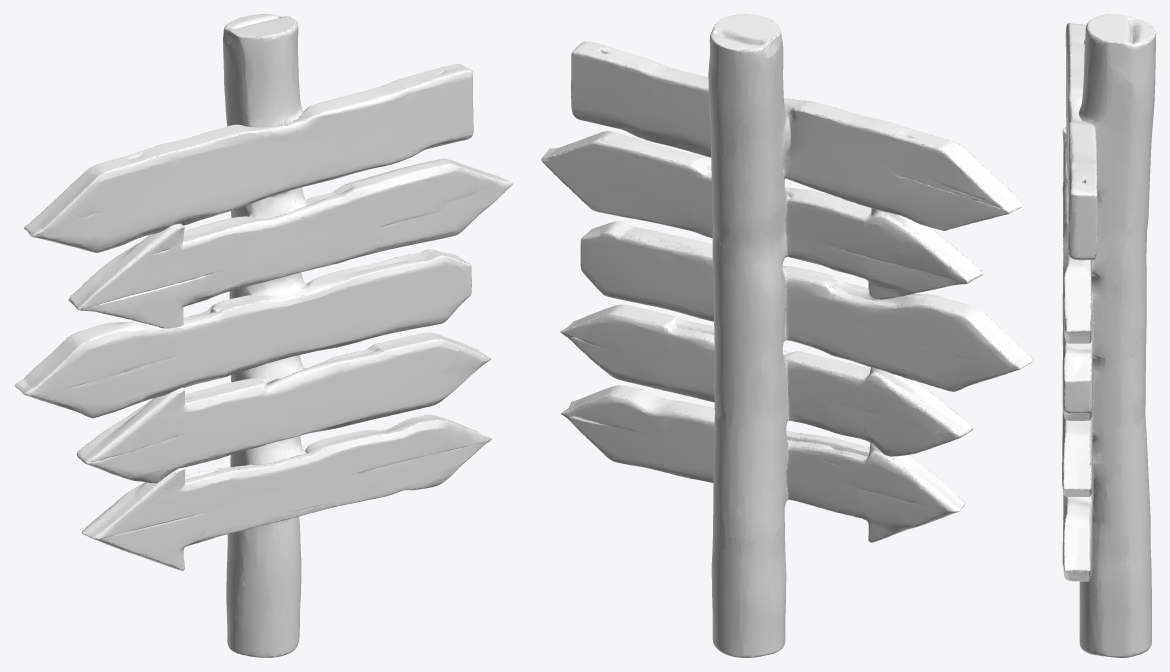
File: beach-signpost.glb
3 renders of one model, left to right at view 1: azimuth 30°, elevation 25°; view 2: azimuth 150°, elevation 25°; view 3: azimuth 270°, elevation 25°, orthographic.
Visible parts, largest first — view 1: model; view 2: model; view 3: model.
Part boxes in pixels (box(x1,y1,x2,y2)): model: box(15, 14, 512, 657); model: box(541, 14, 1033, 657); model: box(1062, 14, 1155, 657).
Bounding box in the file's own units: 1.56 × 1.9 × 0.26.
Materials: 1 (1 with a texture image).
